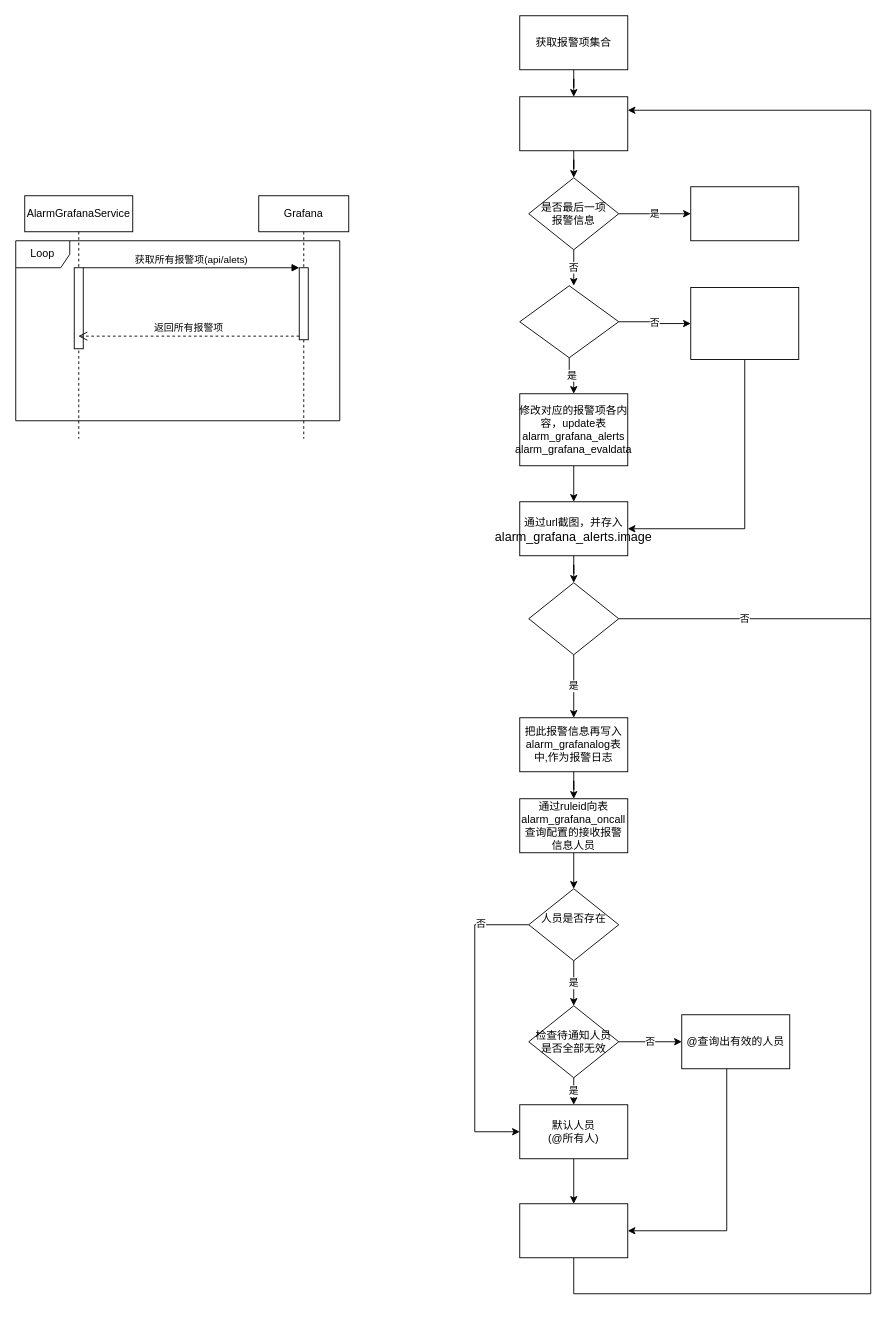
This 894x1317 diagram has some shape labels left out. The centre of each missing label's shape, as x and y in pixels:
ruleid在表alram_grafana_alerts 是否存在: the point at 569,321
处理一条报警信息: the point at 573,123
当前报警项 是否正在报警 （state=alerting): the point at 573,618
新增一条记录， insert表alarm_grafana_alerts alarm_grafana_evaldata: the point at 744,323
结束: the point at 744,213
通过钉钉群的webhook地址@指定人员推送报警信息: the point at 573,1230
